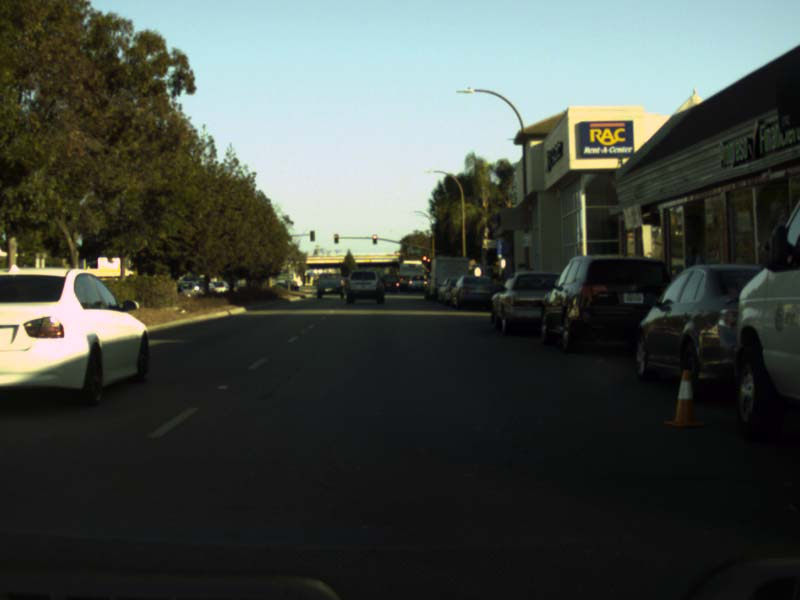Red: (422, 255, 431, 262), (372, 234, 377, 244), (333, 234, 338, 243)
